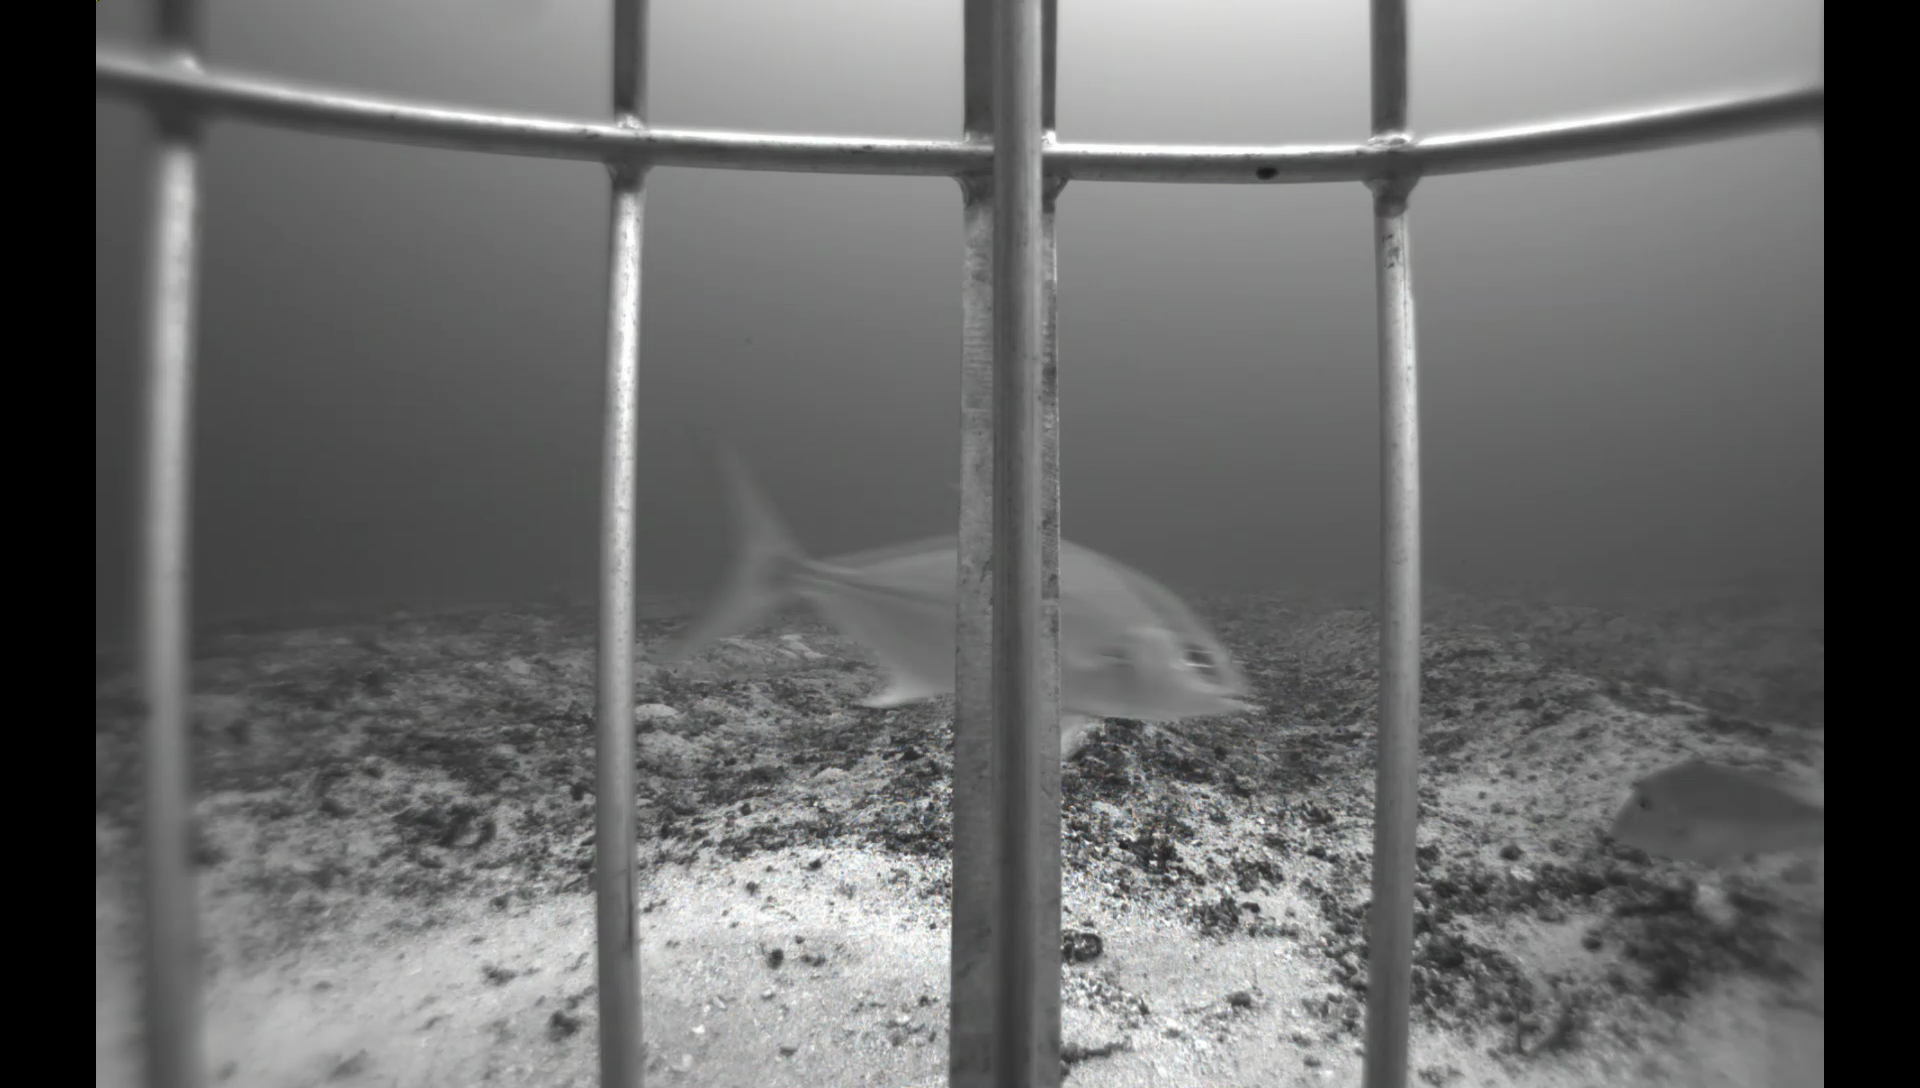CALAMUSPRORIDENS-170210605: (1596, 739, 1822, 870)
SERIOLARIVOLIANA-170113105: (641, 367, 1283, 768)
